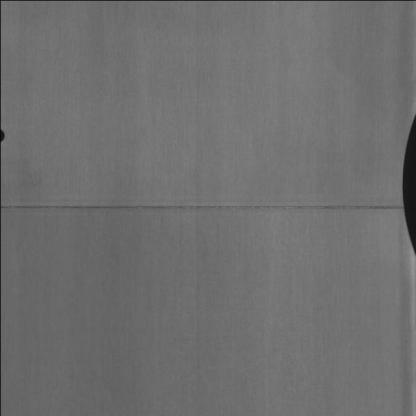crescent_gap: (395, 108, 416, 264)
punching_hole: (0, 127, 6, 145)
welding_line: (0, 192, 406, 219)
